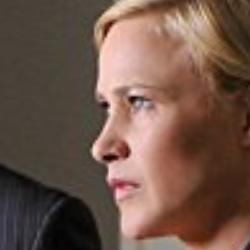face: (70, 1, 250, 247)
